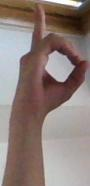D1: (0, 0, 90, 119)
